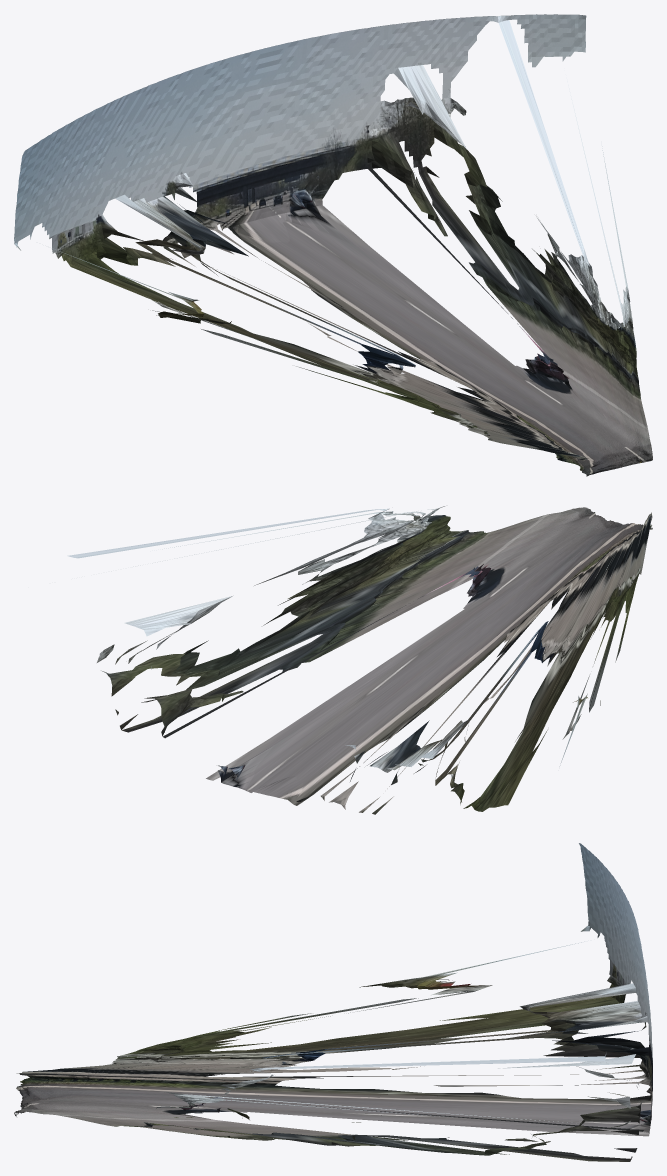
3 renders of one model, top to bottom at view 1: azimuth 30°, elevation 25°; view 2: azimuth 150°, elevation 25°; view 3: azimuth 270°, elevation 25°, orthographic. The views are drawn at different scales.
Parts seen in each view (by area): view 1: defaultobject; view 2: defaultobject; view 3: defaultobject.
Part boxes in pixels (x1,y1,x2,y2): defaultobject: [14, 14, 652, 476]; defaultobject: [67, 506, 652, 814]; defaultobject: [14, 843, 652, 1161].
Bounding box in the file's own units: 40.98 × 12.46 × 44.64.
1 material, 1 textured.
